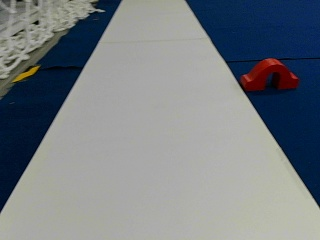bridge: (242, 58, 297, 89)
